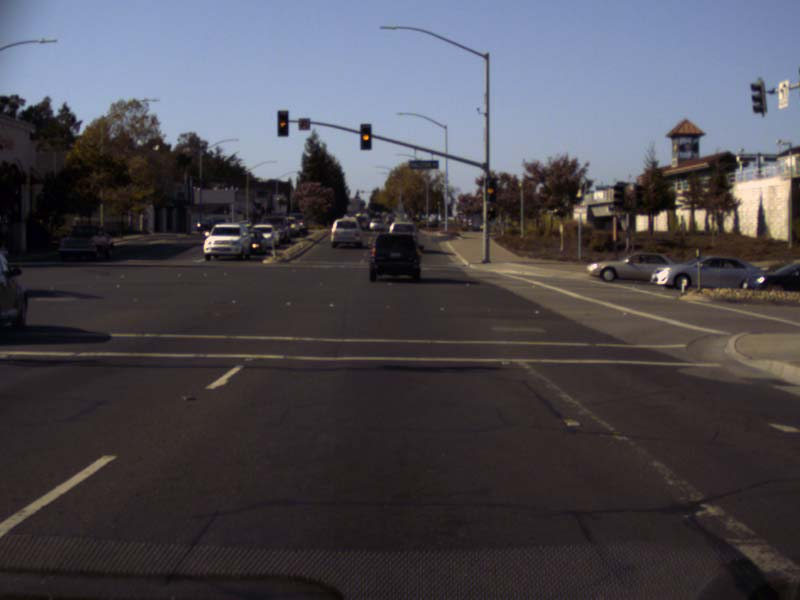Yellow: (359, 123, 372, 150), (277, 110, 288, 136), (485, 178, 495, 202)
